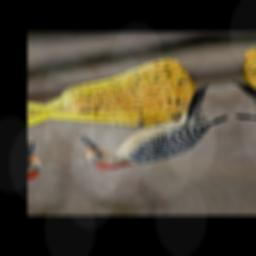Woodpecker: (59, 79, 242, 183)
